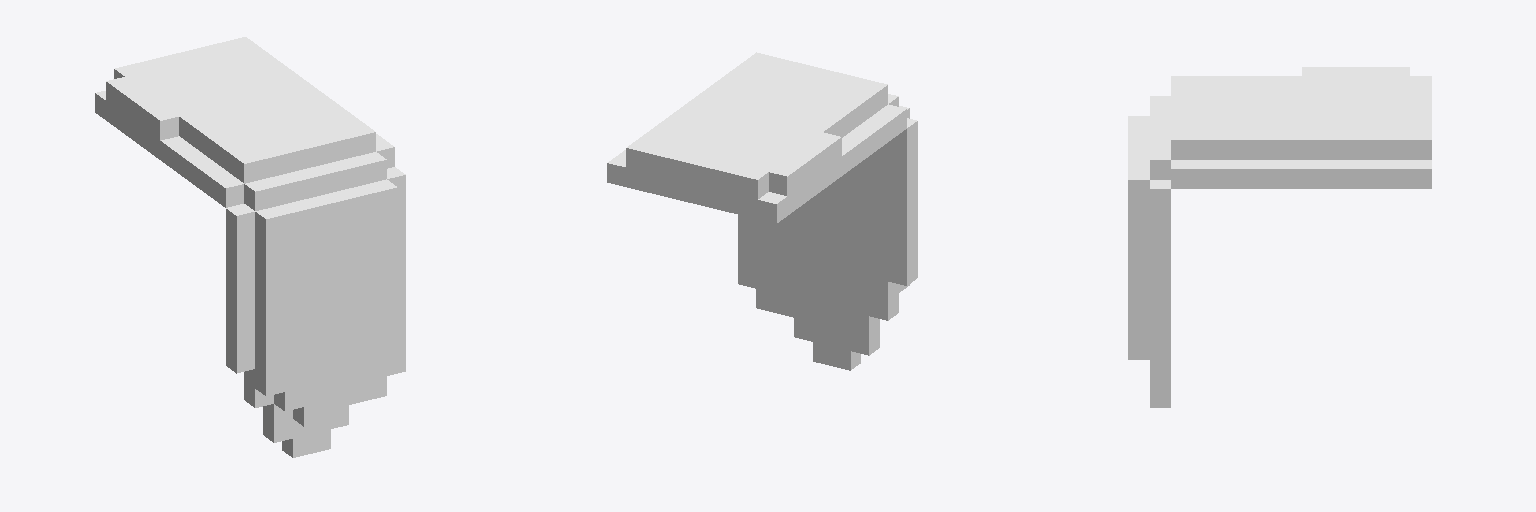
Rendered from Sharf2.obj.
The picture shows the model from 3 angles: view 1: azimuth 30°, elevation 25°; view 2: azimuth 150°, elevation 25°; view 3: azimuth 270°, elevation 25°; orthographic projection.
Parts seen in each view (by area): view 1: object 1; view 2: object 1; view 3: object 1.
Part boxes in pixels (bbox=[...]): object 1: bbox=[95, 37, 405, 457]; object 1: bbox=[607, 52, 917, 370]; object 1: bbox=[1128, 67, 1431, 407].
Size of the model in its own units: 0.9 by 1.5 by 1.4.